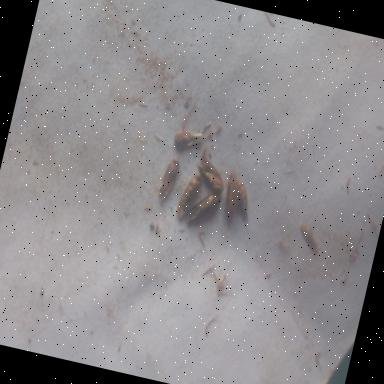pbw: (182, 187, 222, 230), (174, 170, 203, 224), (192, 156, 230, 195), (218, 171, 243, 223), (156, 156, 182, 205), (230, 184, 256, 224), (172, 127, 206, 152)
